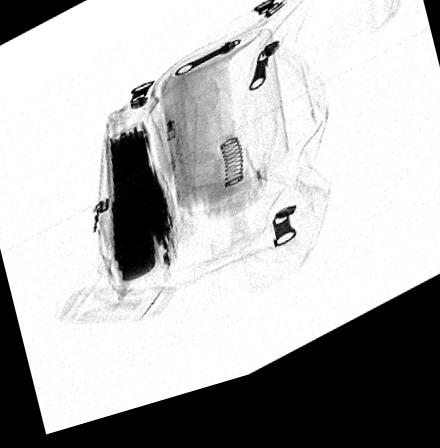Powerbank: (107, 126, 164, 294)
